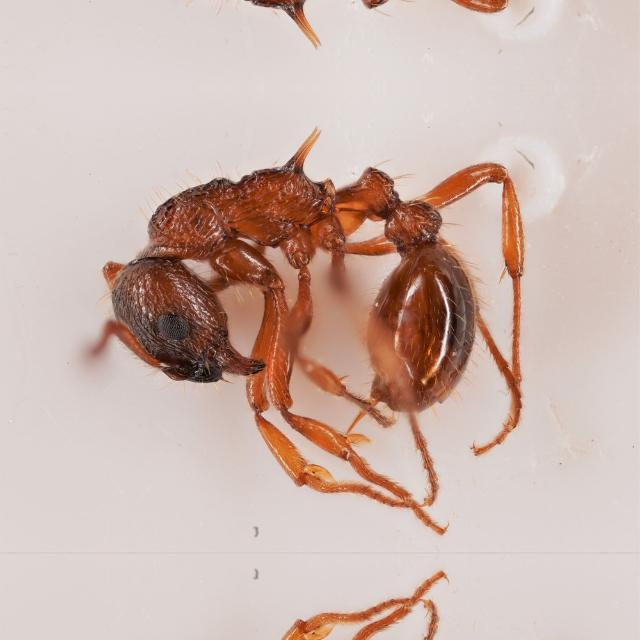Myrmica: (65, 102, 581, 520)
